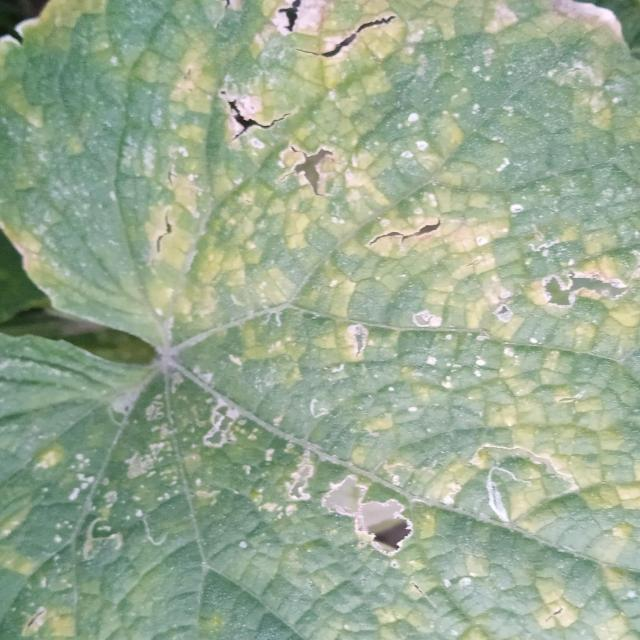cucumber_anthracnose: (23, 7, 607, 615)
